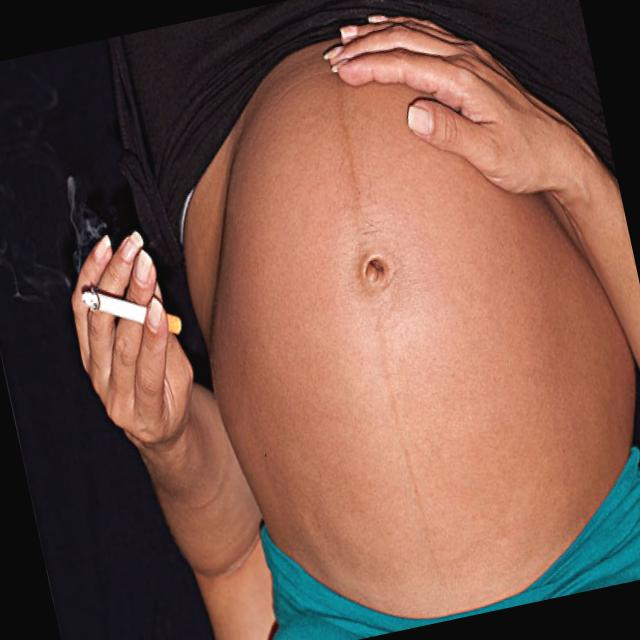smoke: (77, 262, 189, 353)
